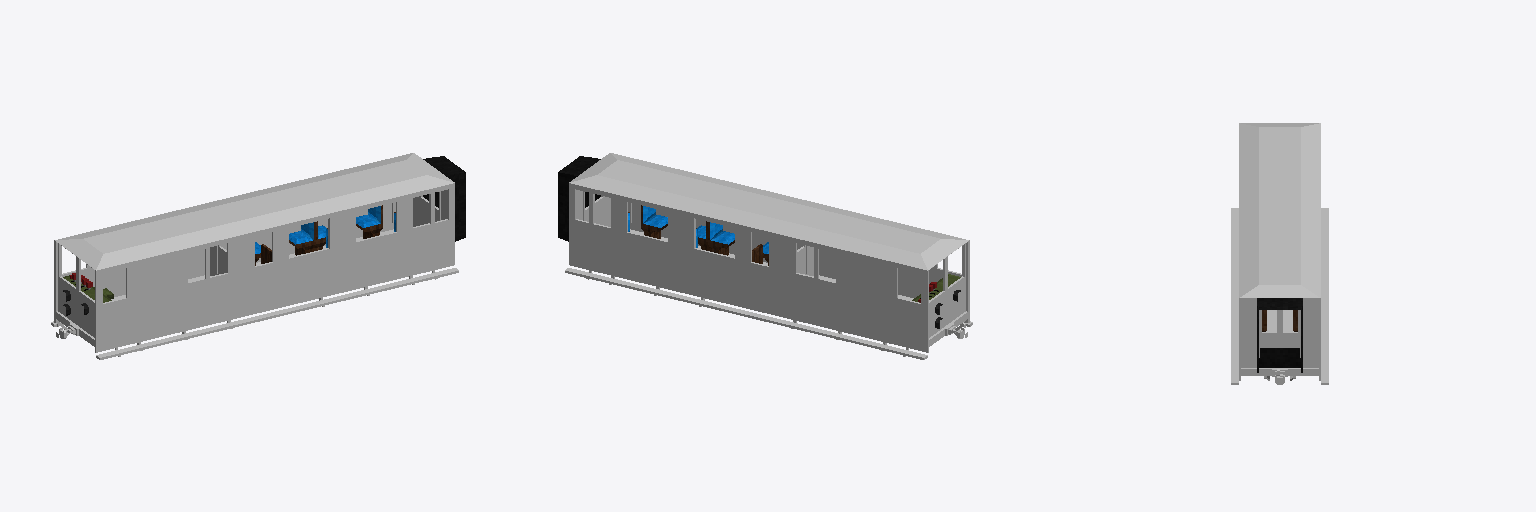
The picture shows the model from 3 angles: view 1: azimuth 30°, elevation 25°; view 2: azimuth 150°, elevation 25°; view 3: azimuth 270°, elevation 25°; orthographic projection.
Visible parts, largest first — view 1: SHELL_WOOD_ext, SHELL_WOOD_roof, SHELL_WOOD_int, FRAME, corridor_rear, DOOR_7_EXTERNAL, DOOR_5_EXTERNAL, DOOR_11_EXTERNAL, DOOR_13_EXTERNAL, bench.002, bench; view 2: SHELL_WOOD_ext, SHELL_WOOD_roof, SHELL_WOOD_int, FRAME, corridor_rear, DOOR_8_EXTERNAL, DOOR_6_EXTERNAL, DOOR_12_EXTERNAL, DOOR_14_EXTERNAL, bench.003, bench.001; view 3: SHELL_WOOD_roof, SHELL_WOOD_ext, COUPLED_REAR_3, corridor_rear.
Part boxes in pixels (x1,y1,x2,y2): SHELL_WOOD_ext: (51,183,458,359); SHELL_WOOD_roof: (55,153,454,270); SHELL_WOOD_int: (59,189,448,303); FRAME: (54,258,454,352); corridor_rear: (423,156,465,241); DOOR_7_EXTERNAL: (410,191,432,259); DOOR_5_EXTERNAL: (253,229,275,297); DOOR_11_EXTERNAL: (208,240,230,308); DOOR_13_EXTERNAL: (186,246,207,313); bench.002: (289,221,326,255); bench: (356,205,382,238); SHELL_WOOD_ext: (565,183,972,359); SHELL_WOOD_roof: (569,153,968,270); SHELL_WOOD_int: (575,189,964,303); FRAME: (569,258,969,352); corridor_rear: (558,156,600,241); DOOR_8_EXTERNAL: (591,191,613,259); DOOR_6_EXTERNAL: (748,229,770,297); DOOR_12_EXTERNAL: (793,240,815,308); DOOR_14_EXTERNAL: (816,246,837,313); bench.003: (697,221,734,255); bench.001: (641,205,667,238); SHELL_WOOD_roof: (1239,123,1320,297); SHELL_WOOD_ext: (1231,208,1328,384); COUPLED_REAR_3: (1259,348,1300,367); corridor_rear: (1257,298,1302,372).
Bounding box in the file's own units: 11.06 × 2.62 × 2.38.
Materials: 8 (4 with a texture image).